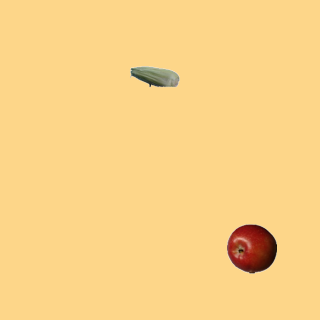Apple Braeburn: (226, 223, 276, 273)
Corn Husk: (129, 51, 179, 101)
